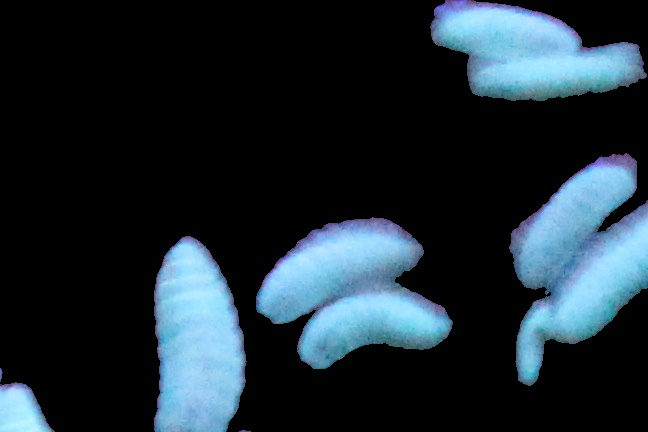larvae: (140, 233, 246, 432), (508, 157, 633, 277), (553, 207, 648, 349), (260, 227, 423, 308), (300, 308, 460, 373), (472, 53, 642, 104), (419, 11, 578, 53), (514, 301, 556, 386)
